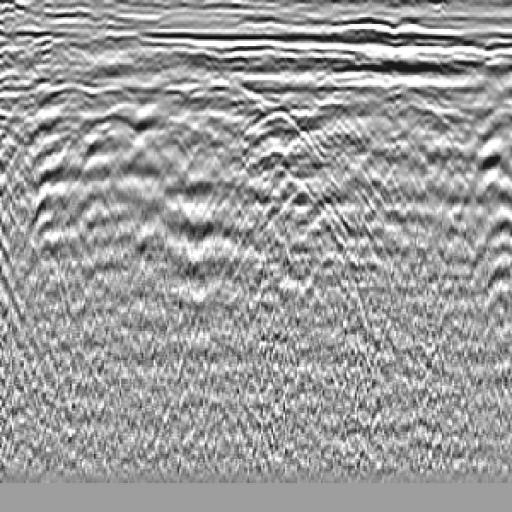metalic: (71, 71, 158, 150)
